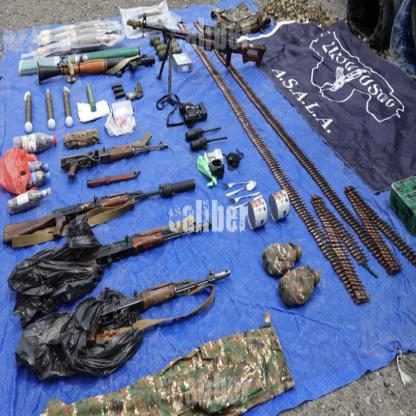rifle: (3, 176, 198, 247), (78, 266, 232, 347), (79, 213, 217, 280), (124, 13, 268, 72), (60, 130, 173, 179)
